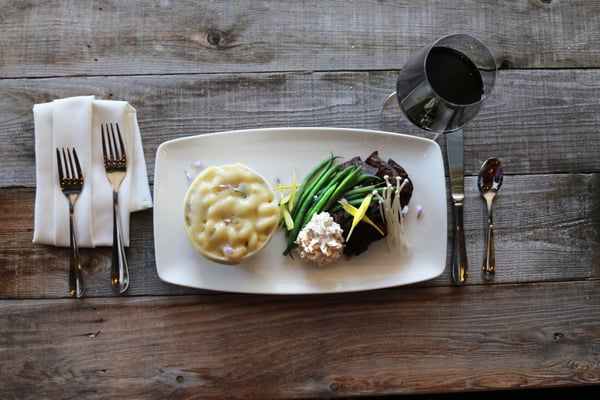burger: (101, 119, 130, 291), (56, 145, 86, 296)
pizza: (397, 32, 497, 134)
salad: (399, 35, 490, 282), (478, 156, 504, 277)
